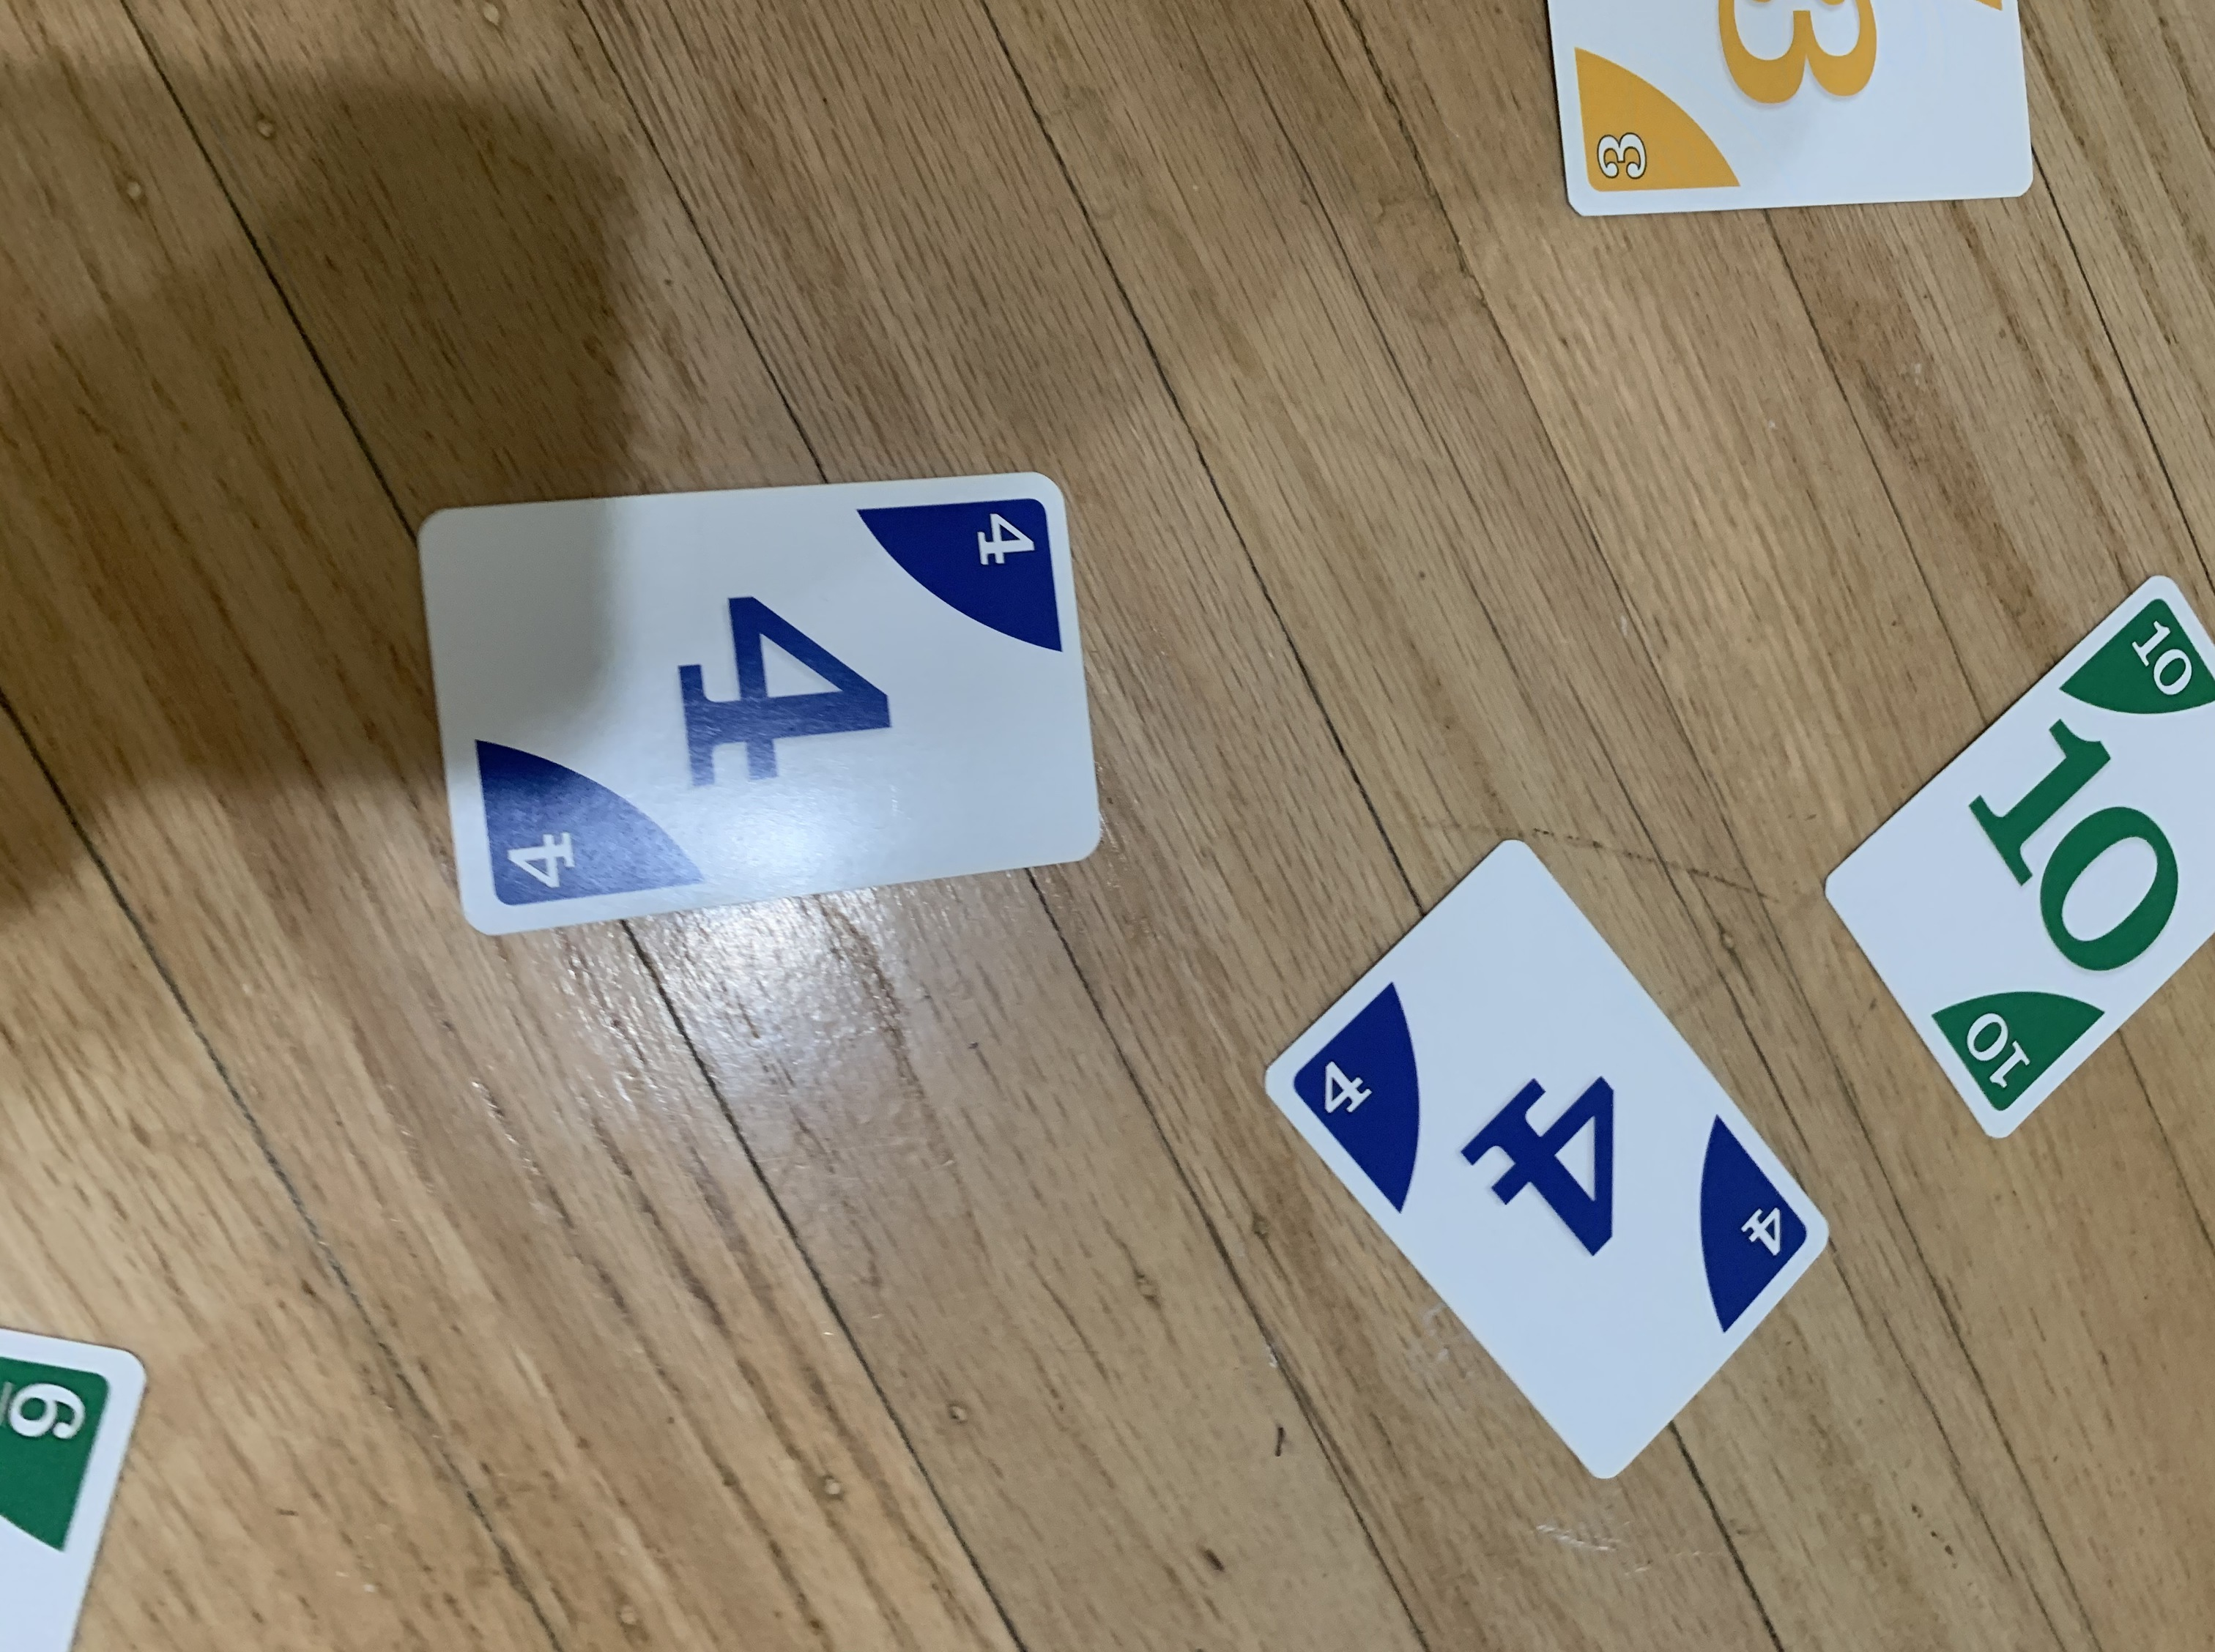four: (1259, 829, 1833, 1491), (396, 455, 1107, 947)
ten: (1817, 554, 2215, 1145)
